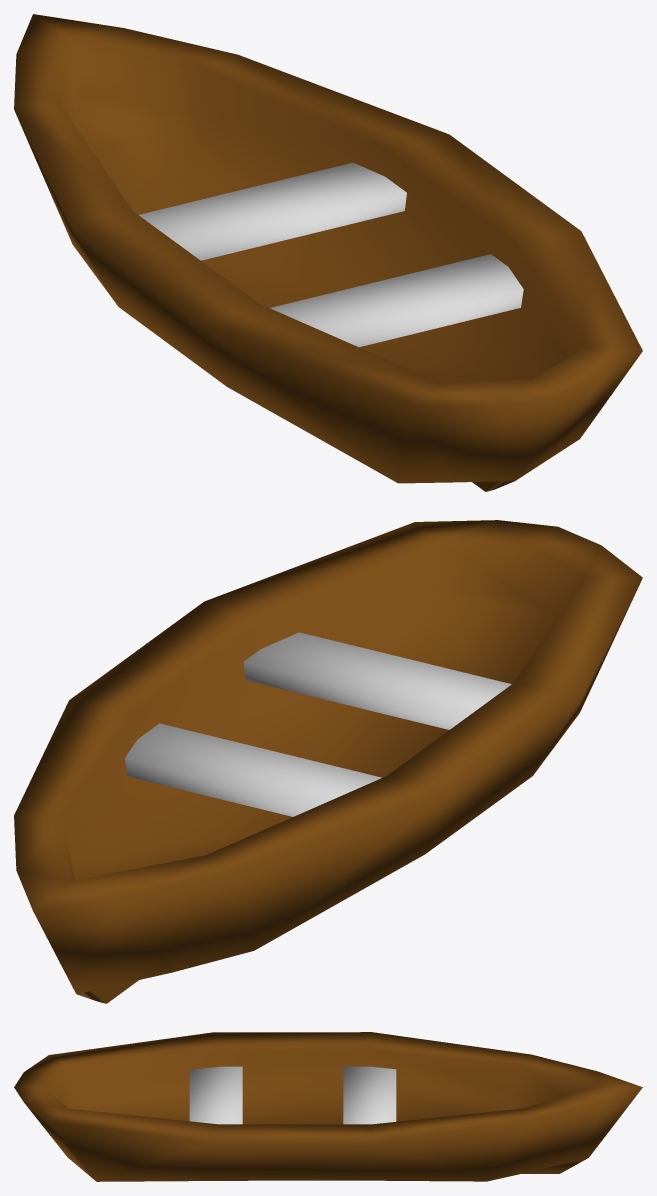
Rendered from boat outline.fbx.
3 views of the same model, one above another, from view 1: azimuth 30°, elevation 25°; view 2: azimuth 150°, elevation 25°; view 3: azimuth 270°, elevation 25° (orthographic). The views are drawn at different scales.
Visible parts, largest first — view 1: Outline; view 2: Outline; view 3: Outline.
Part boxes in pixels (x1,y1,x2,y2): Outline: (14,14,642,491); Outline: (14,520,642,1003); Outline: (14,1032,642,1181).
Bounding box in the file's own units: 358 × 130 × 856.
